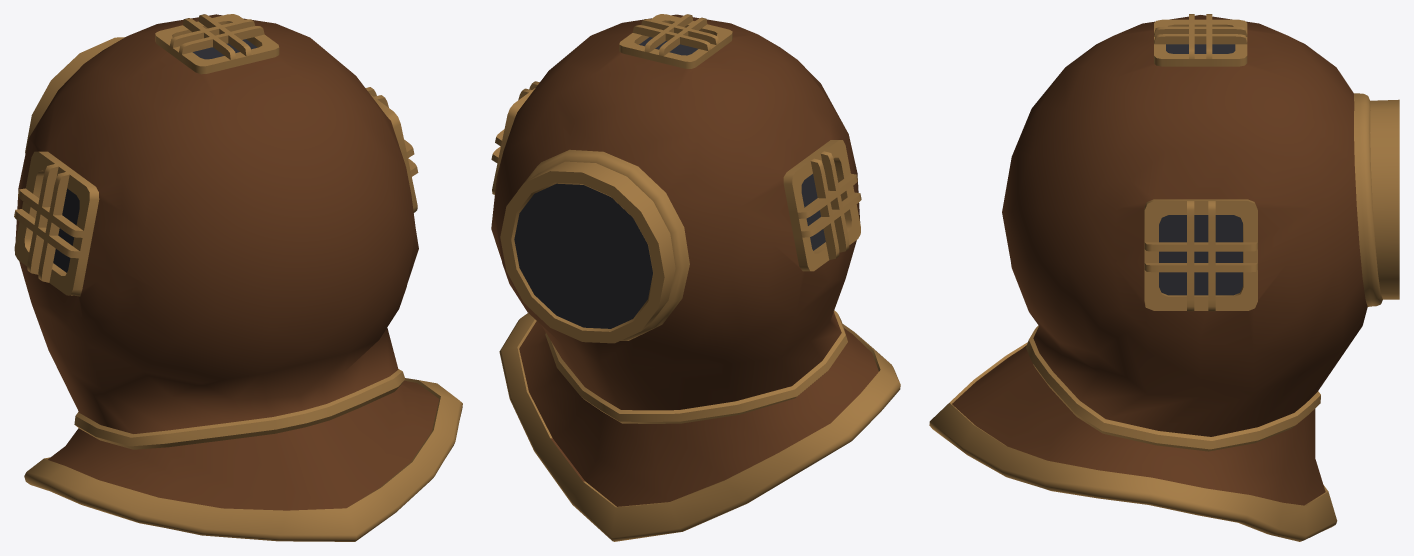
The model's file is diver_oldschool.glb.
3 renders of one model, left to right at view 1: azimuth 30°, elevation 25°; view 2: azimuth 150°, elevation 25°; view 3: azimuth 270°, elevation 25°, orthographic. The views are drawn at different scales.
Visible parts, largest first — view 1: primary, secondary, visor; view 2: primary, secondary, visor; view 3: primary, secondary, visor.
Part boxes in pixels (left/top/right/bottom): primary: left=15, top=14, right=439, bottom=510; secondary: left=14, top=14, right=462, bottom=541; visor: left=53, top=39, right=257, bottom=272; primary: left=491, top=14, right=878, bottom=506; secondary: left=491, top=14, right=900, bottom=541; visor: left=514, top=37, right=825, bottom=328; primary: left=952, top=15, right=1367, bottom=505; secondary: left=929, top=14, right=1399, bottom=541; visor: left=1159, top=44, right=1242, bottom=295.
Size of the model in its own units: 0.5587 by 0.6888 by 0.5921.
